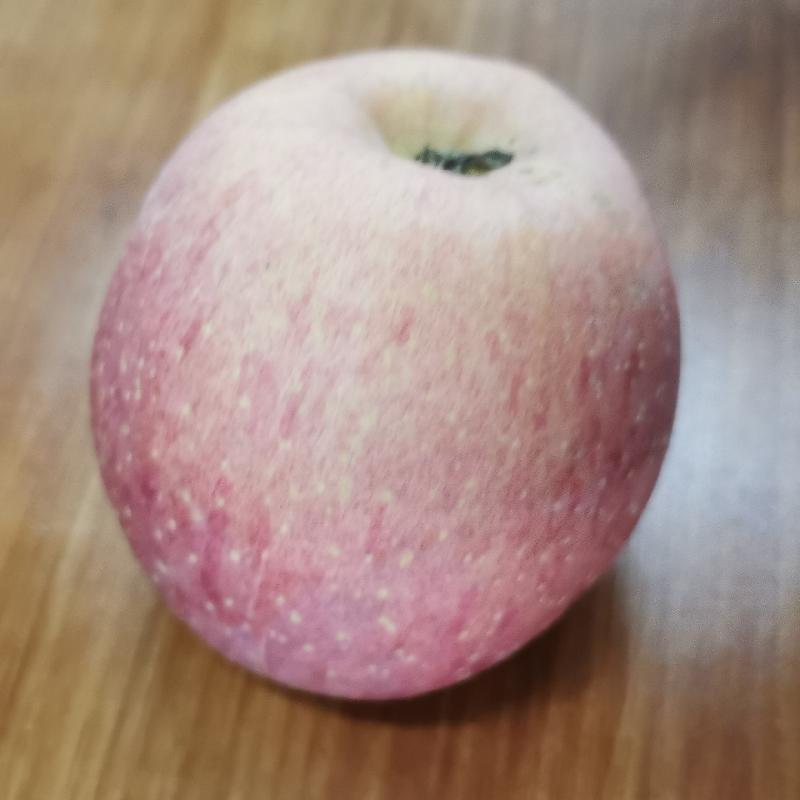apples: (81, 40, 685, 711)
